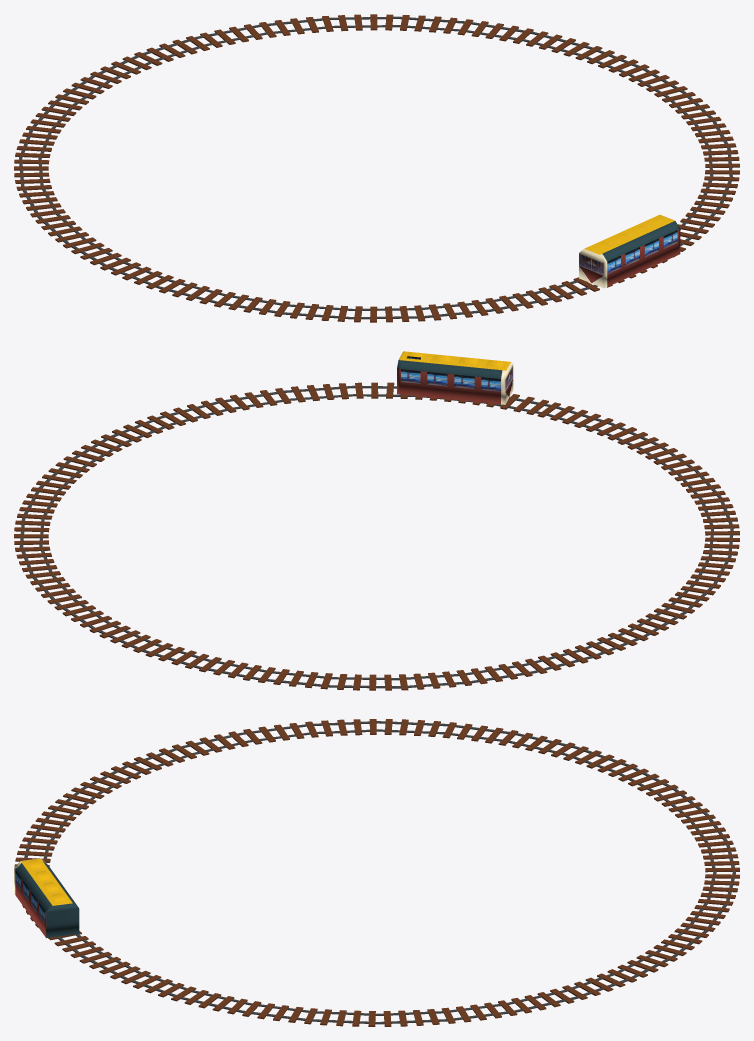
Rendered from train_litle.fbx.
3 renders of one model, top to bottom at view 1: azimuth 30°, elevation 25°; view 2: azimuth 150°, elevation 25°; view 3: azimuth 270°, elevation 25°, orthographic.
Parts seen in each view (by area): view 1: vias, Cube; view 2: vias, Cube; view 3: vias, Cube.
Boxes of the visible parts, left/top/right/bottom form: vias: left=14, top=14, right=739, bottom=322; Cube: left=579, top=214, right=680, bottom=288; vias: left=14, top=382, right=739, bottom=690; Cube: left=397, top=351, right=513, bottom=404; vias: left=14, top=719, right=739, bottom=1026; Cube: left=14, top=858, right=79, bottom=938.
Size of the model in its own units: 4183 by 230 by 4184.
